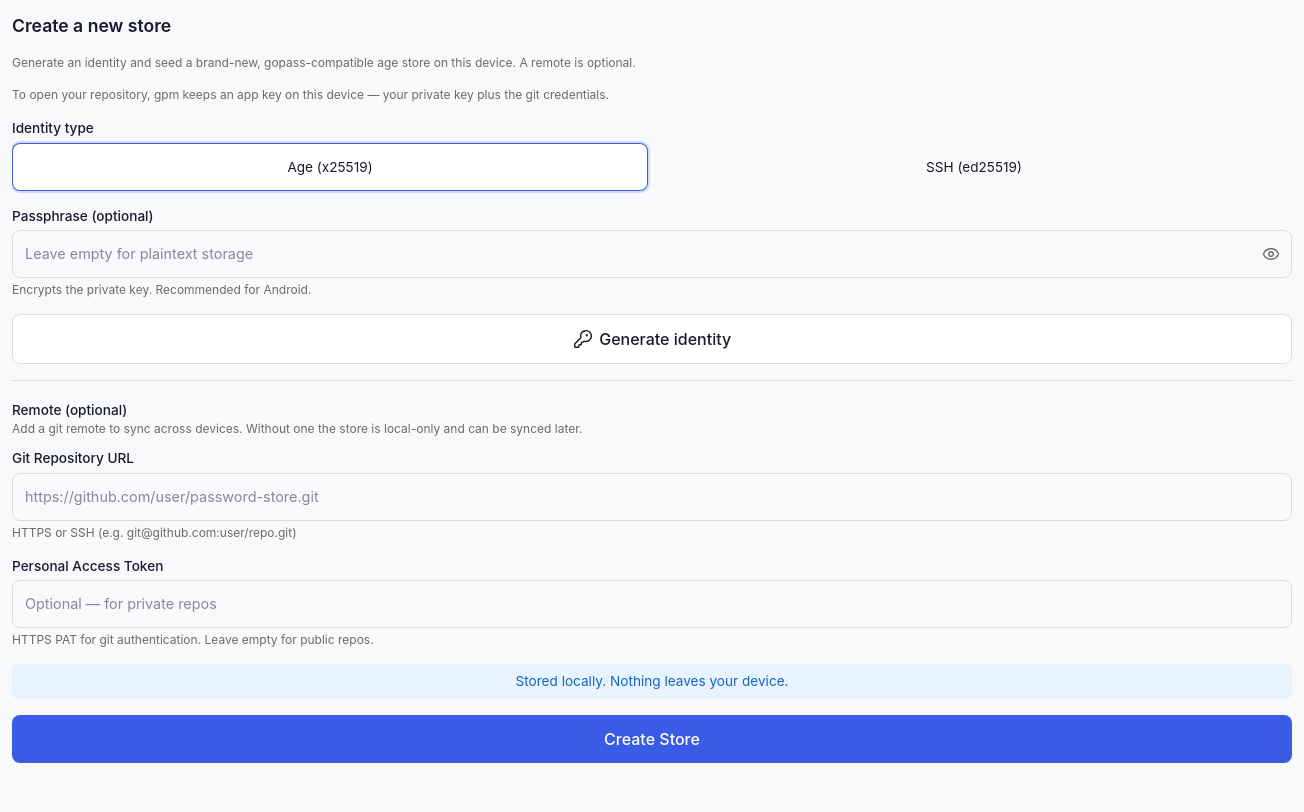
Scenario: CreateFlow › drops the staged identity when switching kind
The width and height of the screenshot is (1304, 812).
Click the button "Generate identity" at (652, 339), box [12,314,1292,364]
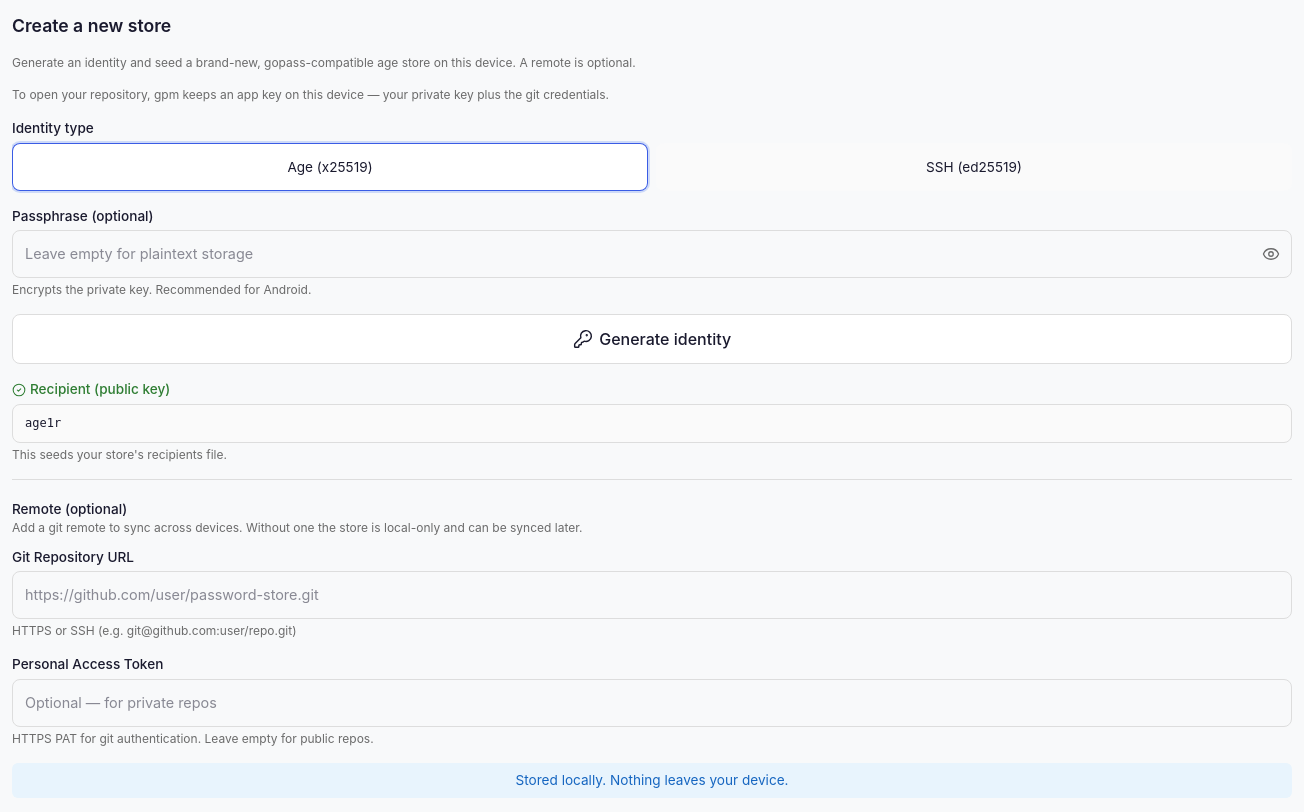
Expected: the text "age1r" is shown, [12,404,1292,443]
Click the radio button named "create-identity-kind" at (974, 167), box [656,143,1292,191]
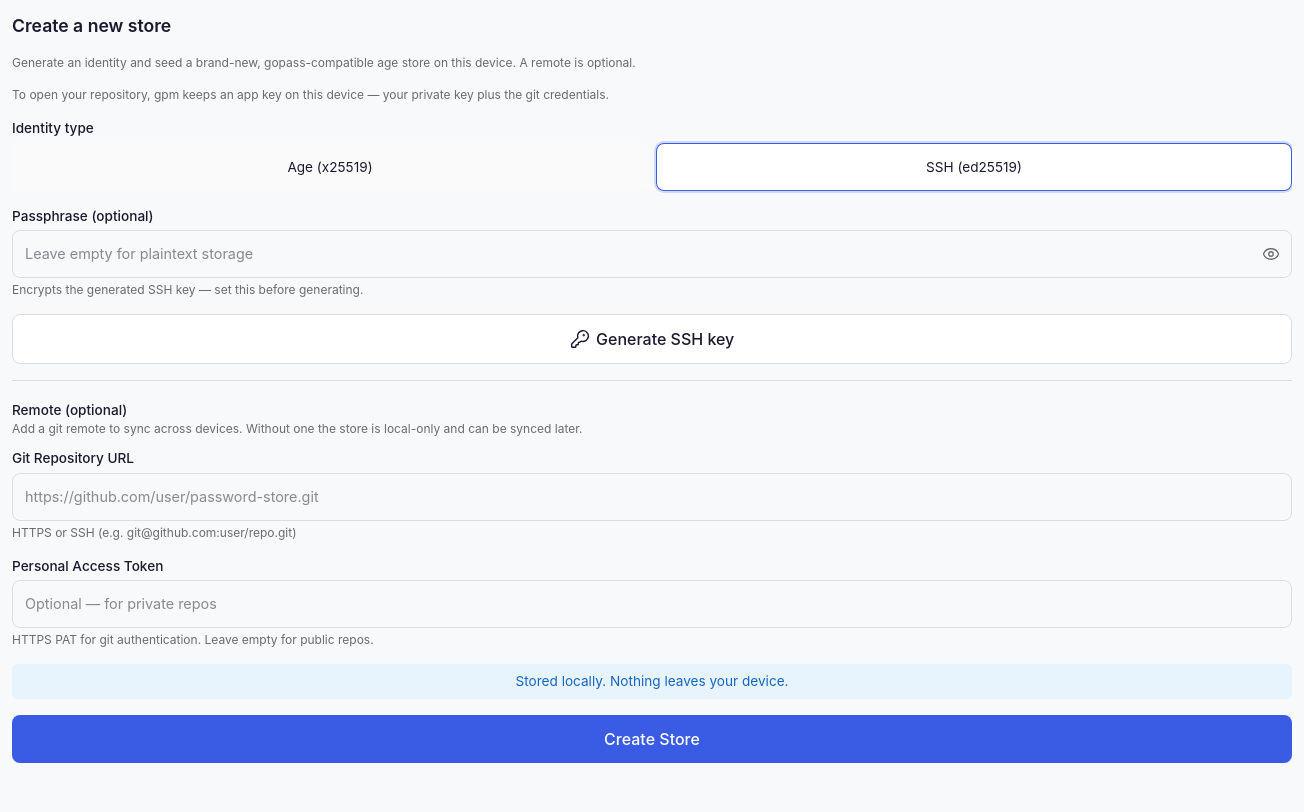
Expected: the text "age1r" is gone
